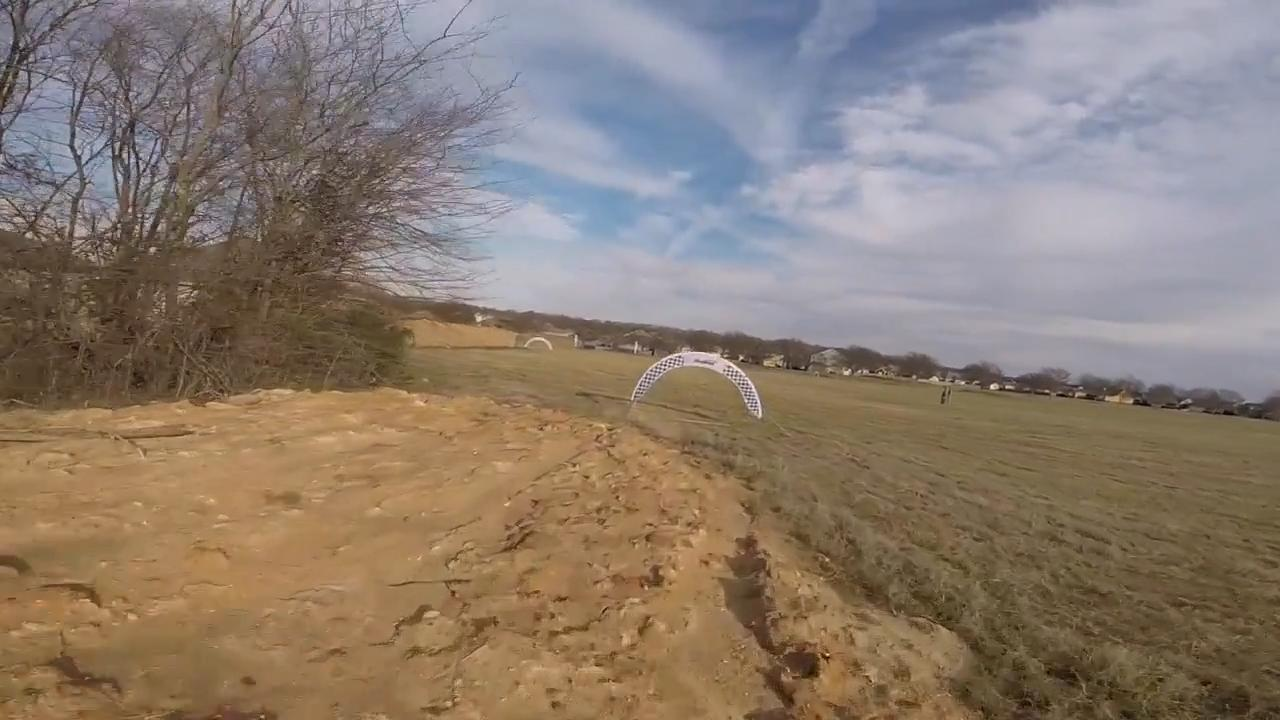gate: (629, 350, 766, 424)
